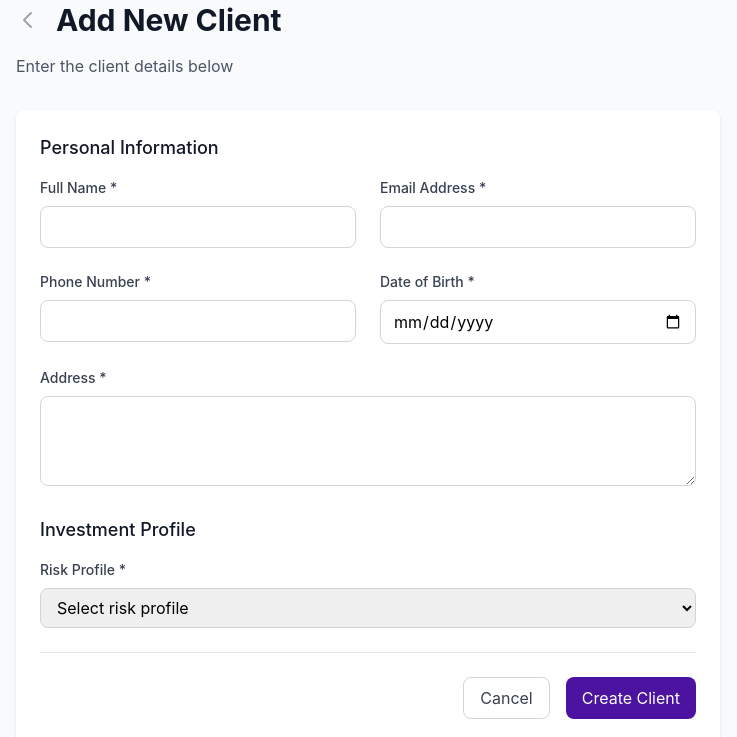
Test: UserForm › validates email format
Type "invalid-email" into the field with id "email" at (538, 227), box [380,206,696,248]
(page scrolled)
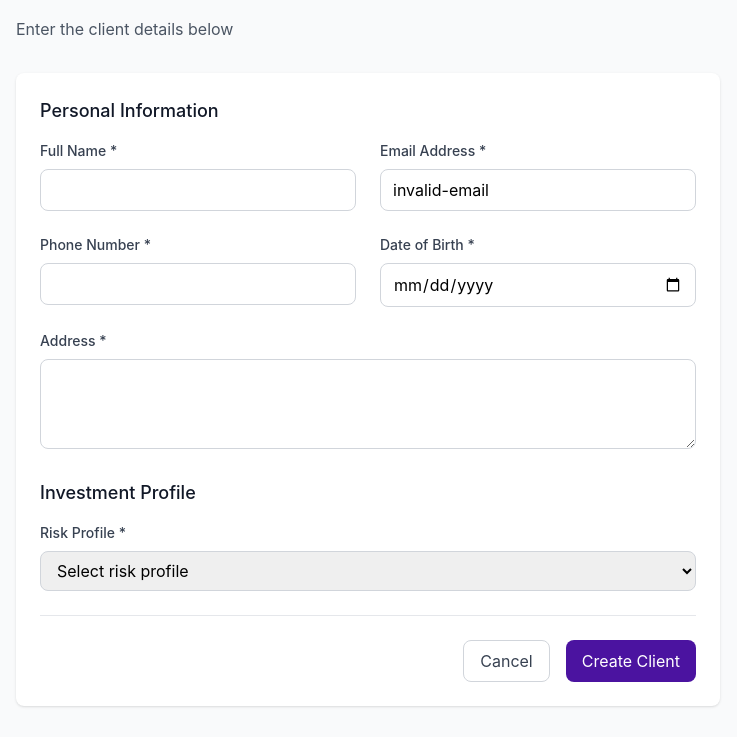
Submit the form
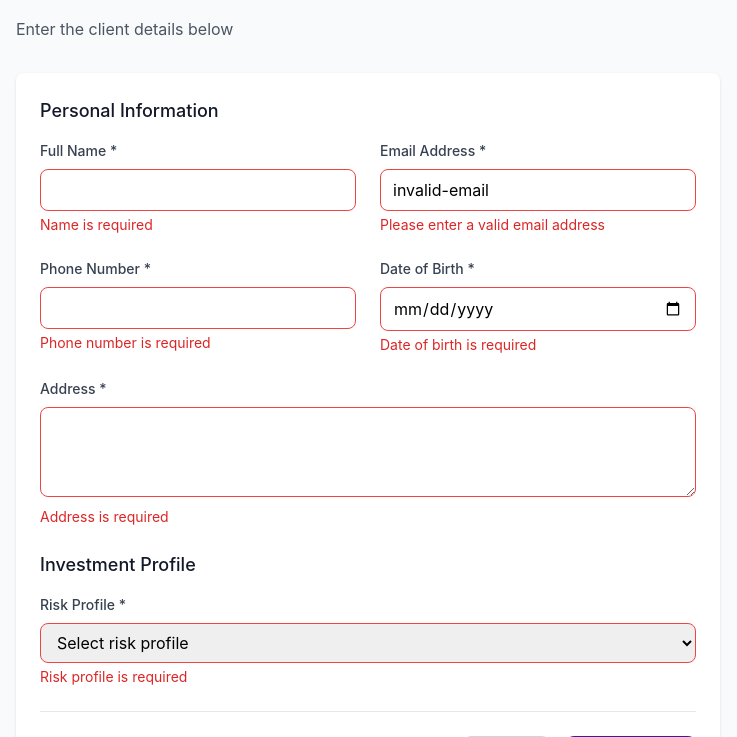
Expected: the text "Please enter a valid email address" is shown, [380,216,605,233]
